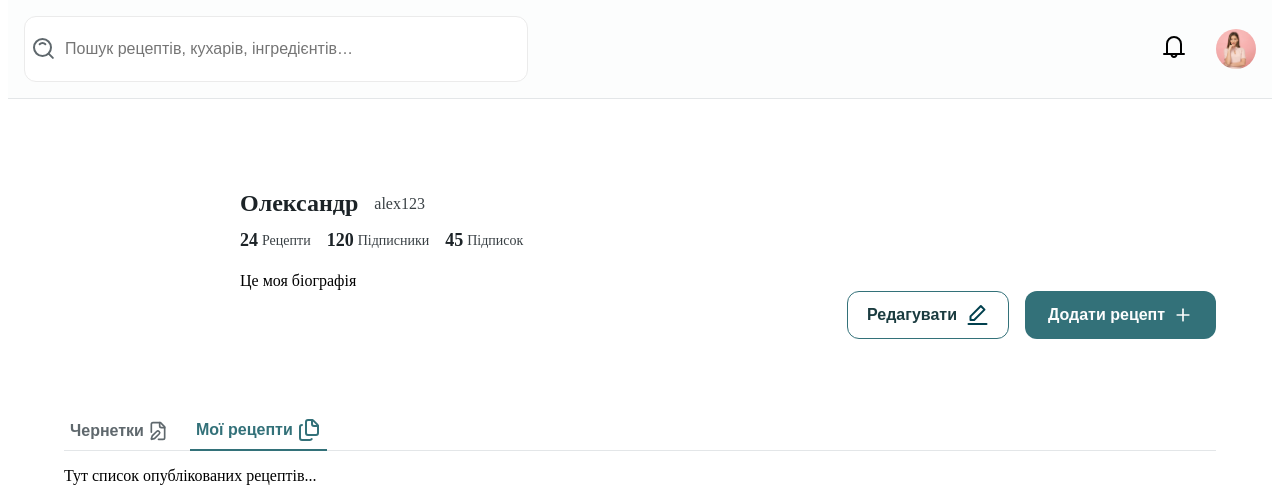
Test: ProfilePage › можно переключить вкладку на 'Чернетки'
This screenshot has width=1280, height=502.
Click the button "Чернетки" at (119, 431), box 64,411 -> 174,451
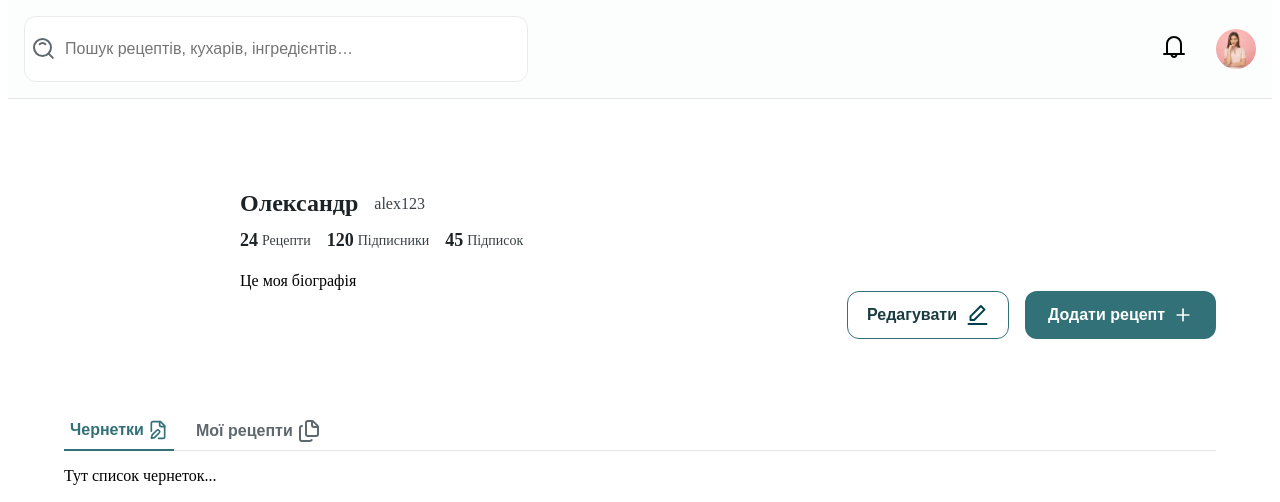
Result: the text "Тут список чернеток..." is shown at 64,467 -> 216,484
